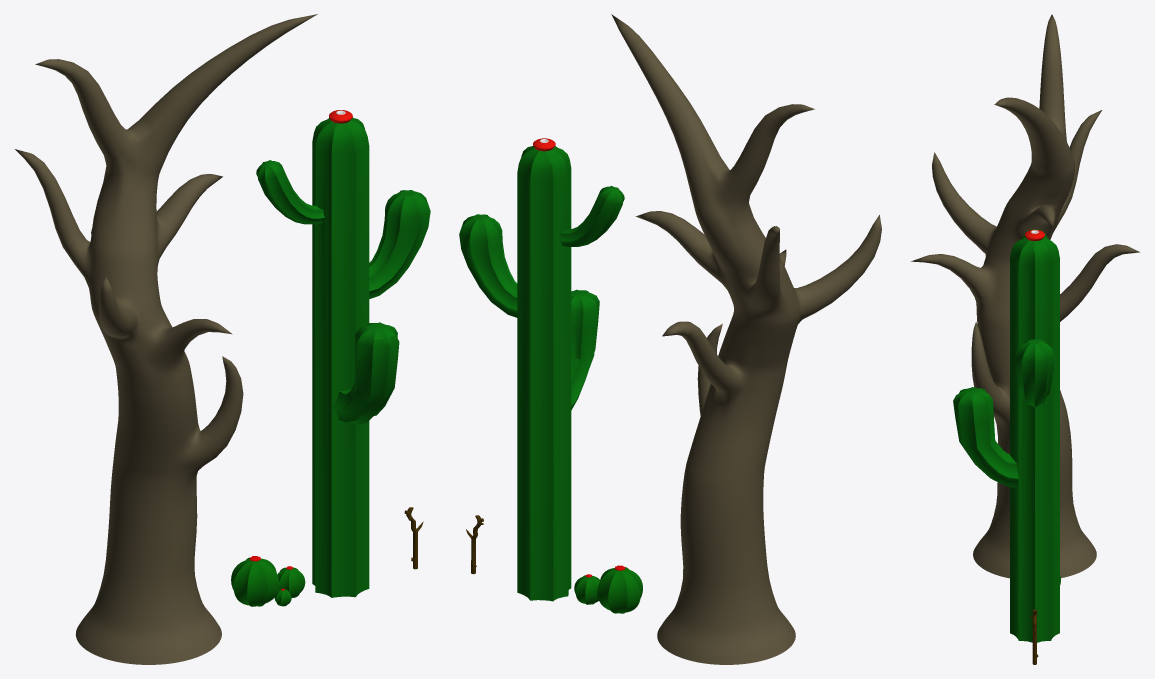
The model's file is FallenSkiesFillerAssets.fbx.
The picture shows the model from 3 angles, left to right: view 1: azimuth 30°, elevation 25°; view 2: azimuth 150°, elevation 25°; view 3: azimuth 270°, elevation 25°; orthographic projection. The views are drawn at different scales.
Visible parts, largest first — view 1: dead tree, big cactus, mini cactai; view 2: dead tree, big cactus, mini cactai; view 3: dead tree, big cactus.
Part boxes in pixels (box(x1,y1,x2,y2)): dead tree: box(15, 14, 317, 664); big cactus: box(256, 110, 430, 597); mini cactai: box(231, 556, 305, 606); dead tree: box(611, 14, 881, 664); big cactus: box(459, 138, 624, 601); mini cactai: box(574, 565, 642, 613); dead tree: box(911, 14, 1139, 578); big cactus: box(953, 229, 1059, 642).
Bounding box in the file's own units: 2.68 × 4 × 1.64.
